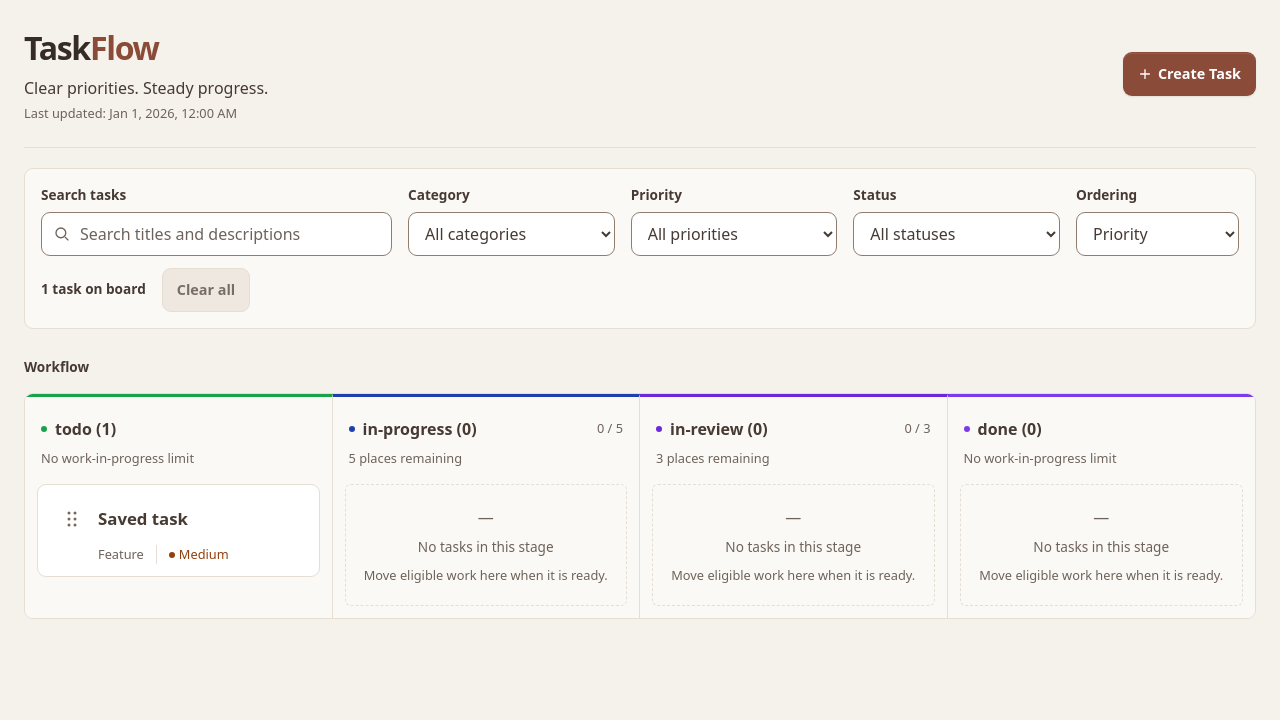
it: does not announce normal loads or automatic saves
This screenshot has width=1280, height=720.
Click the button with aria-label "Open task Saved task".
click(202, 519)  # box [98,497,306,541]
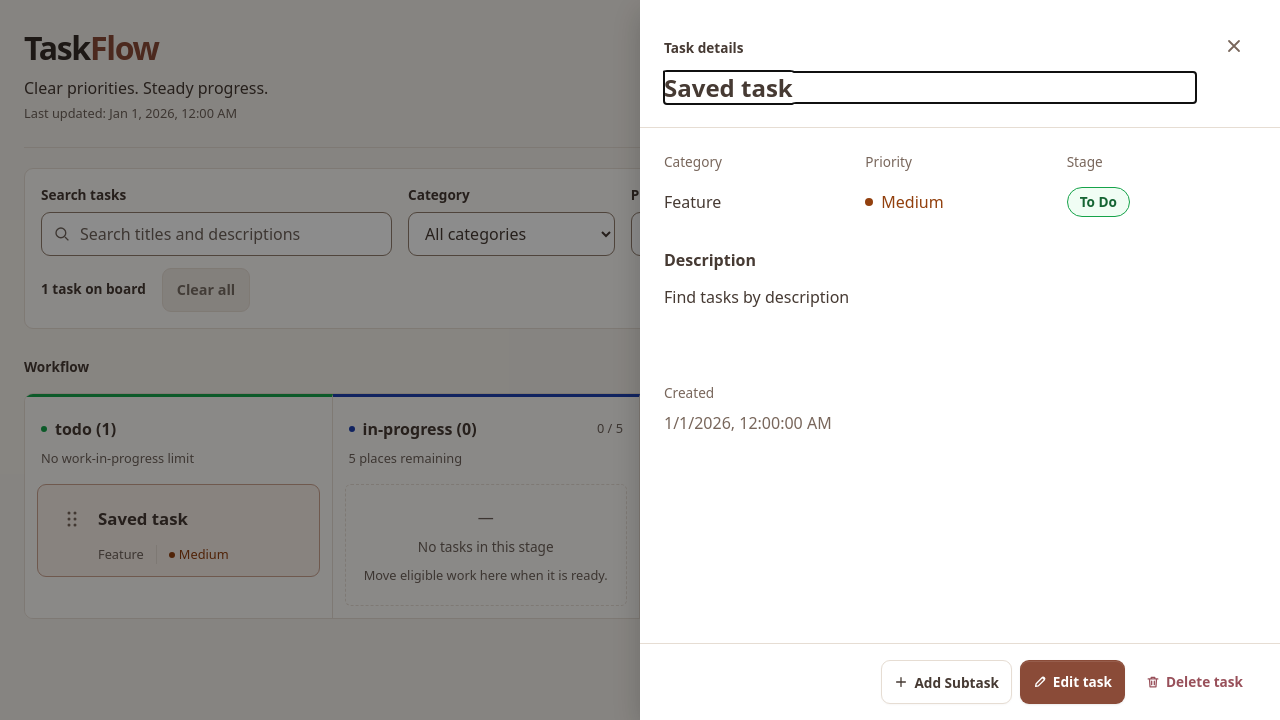
Click the button "Edit task".
click(1072, 682)  # box [1020,660,1125,704]
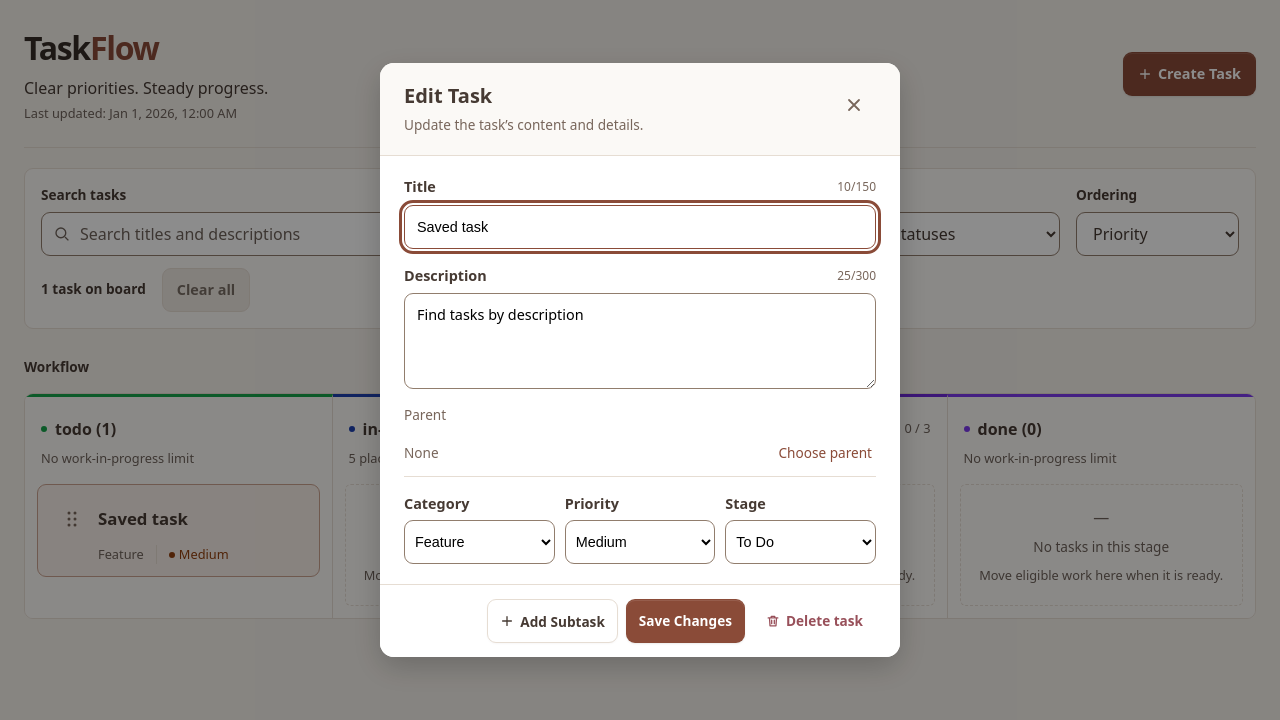
Type " updated" into the text box labelled "Description".
click(640, 341); type(" updated")  # box [404,293,876,389]
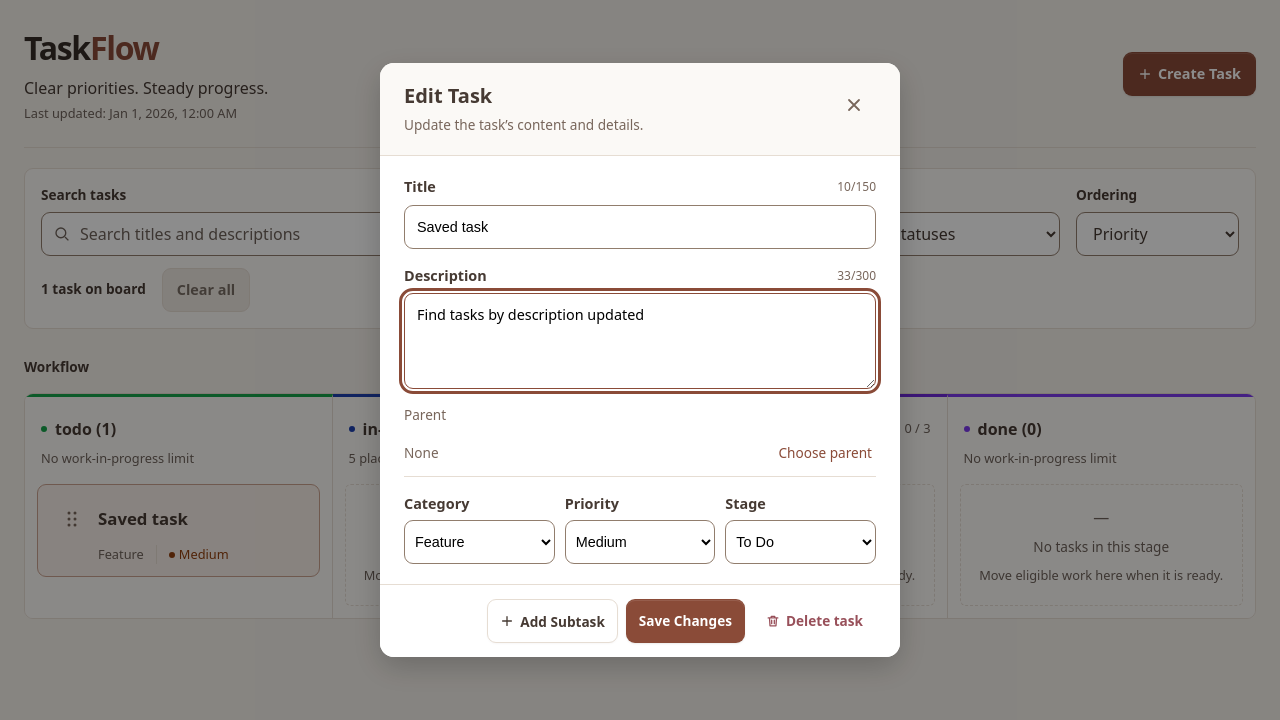
Click the button "Save Changes".
click(685, 621)  # box [626,599,745,643]
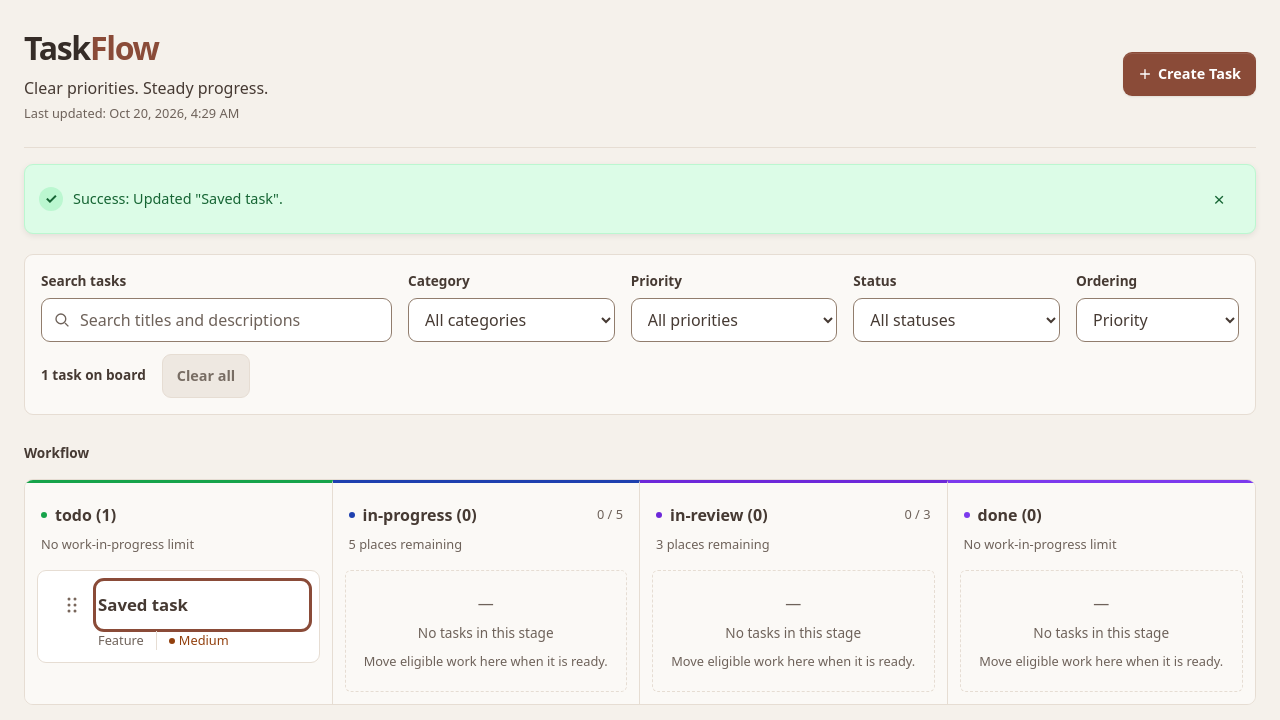
Expected: the number of buttons named "Dismiss notification" is 1, [1197,177,1241,221]
